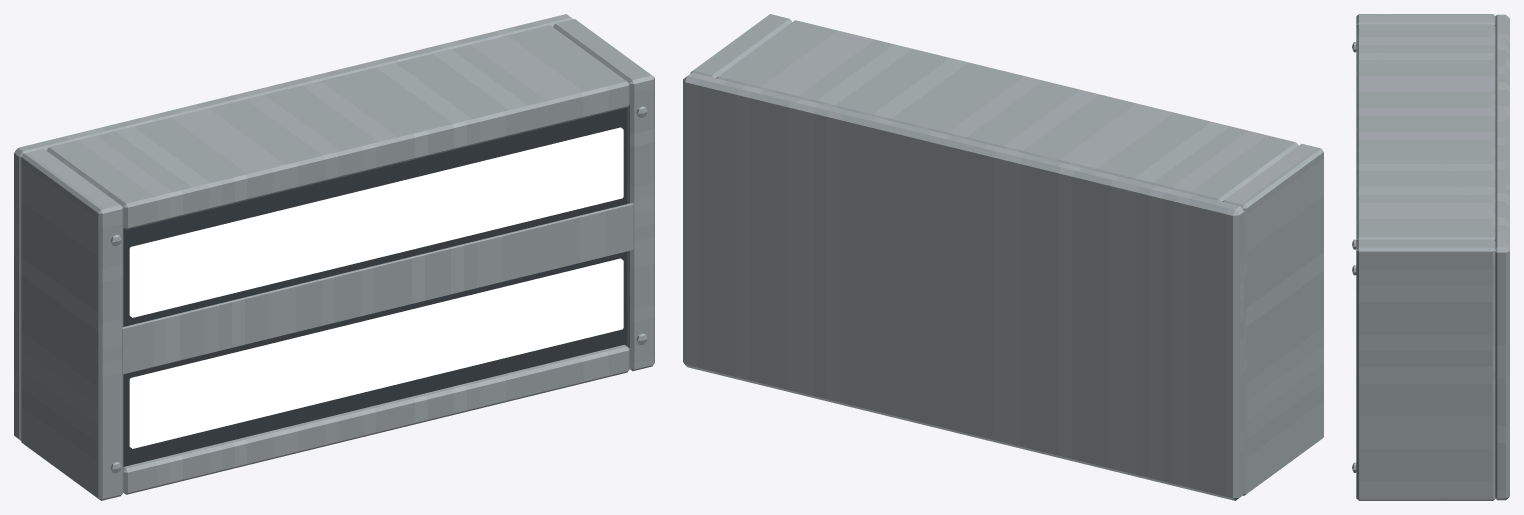
File: pool_light_wall.glb
The picture shows the model from 3 angles, left to right: view 1: azimuth 30°, elevation 25°; view 2: azimuth 150°, elevation 25°; view 3: azimuth 270°, elevation 25°; orthographic projection. The views are drawn at different scales.
Parts seen in each view (by area): view 1: core_pool_light_wall; view 2: core_pool_light_wall; view 3: core_pool_light_wall.
Part boxes in pixels (box(x1,y1,x2,y2)): core_pool_light_wall: box(14, 14, 654, 500); core_pool_light_wall: box(683, 14, 1323, 500); core_pool_light_wall: box(1352, 14, 1509, 500).
Bounding box in the file's own units: 0.4 × 0.2 × 0.113.
Materials: 3 (1 with a texture image).
